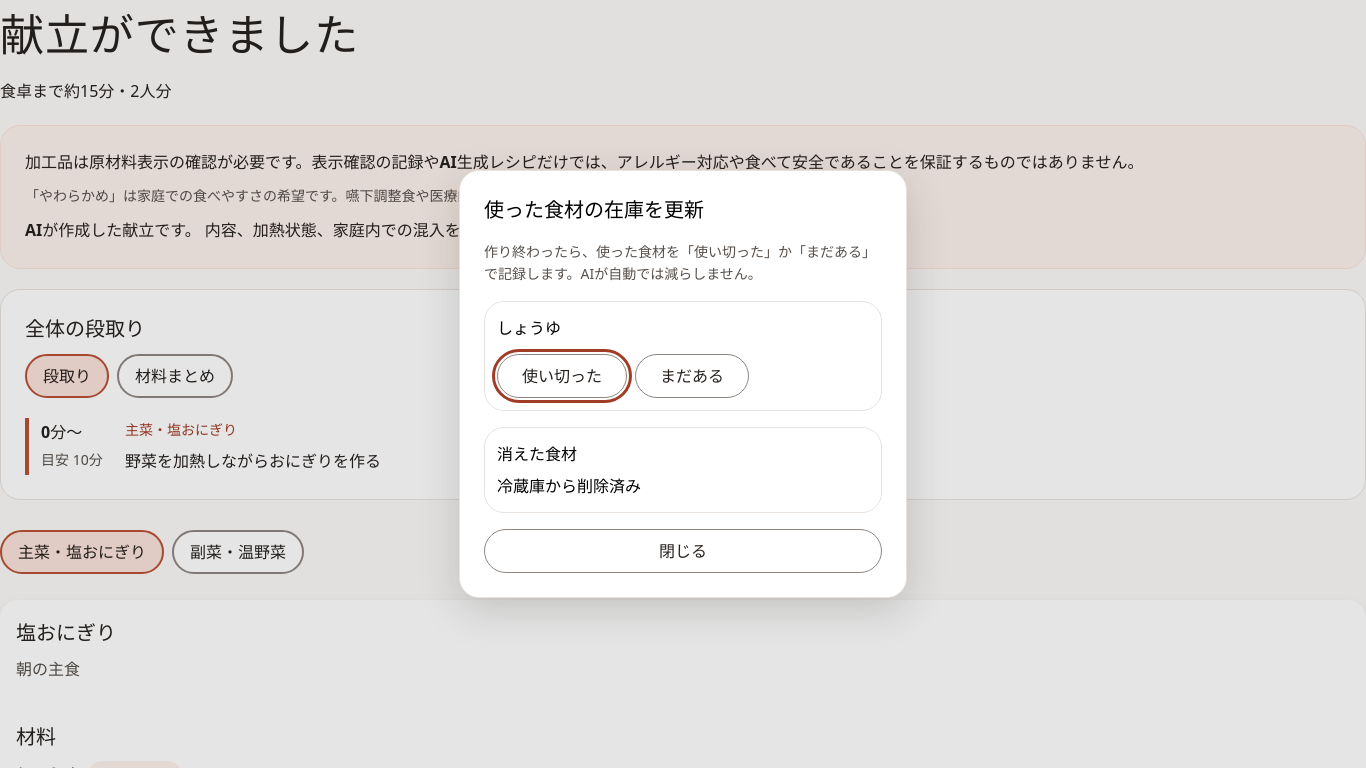
Test case: keeps remainder inputs on version conflict without silent retry
The width and height of the screenshot is (1366, 768).
Click the button "まだある" at (692, 376), box left=635, top=354, right=749, bottom=398
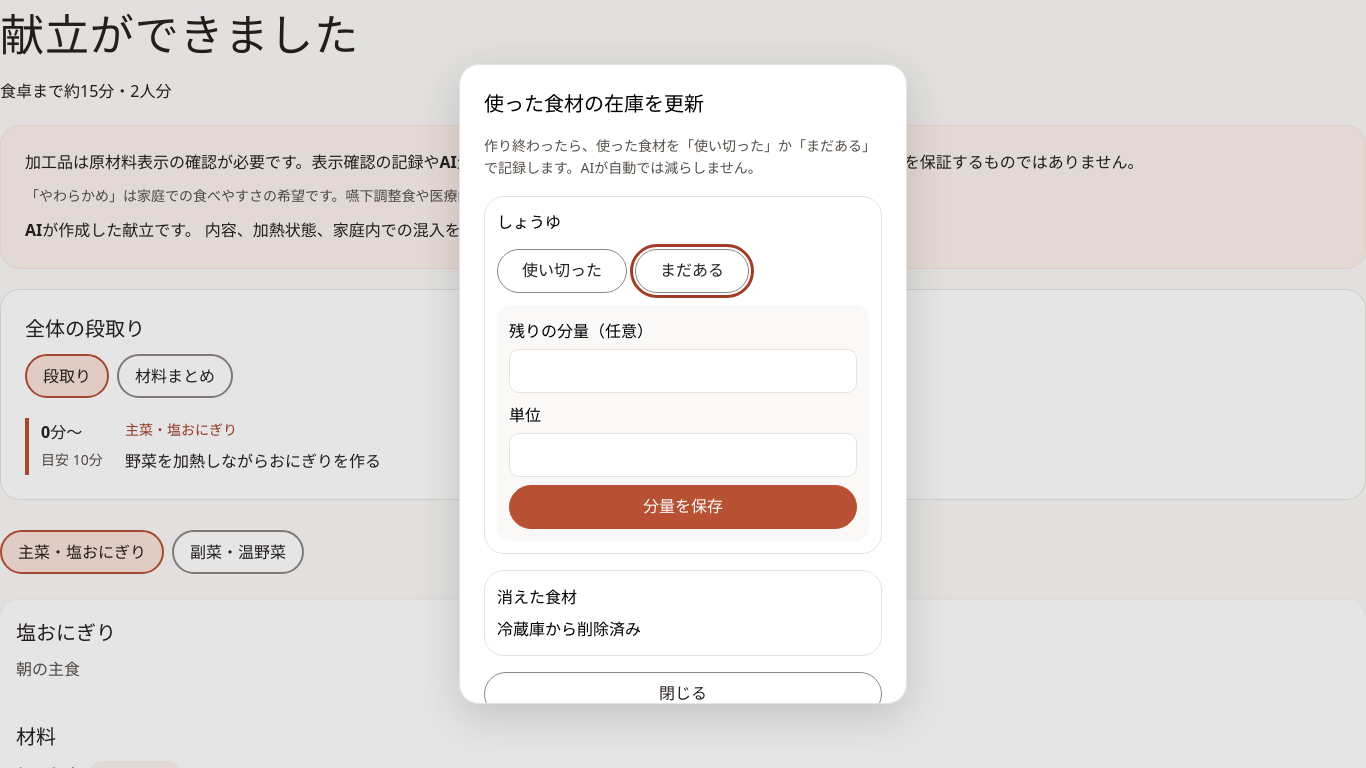
Type "50" into the field labelled "残りの分量（任意）" at (683, 371), box left=509, top=349, right=857, bottom=393
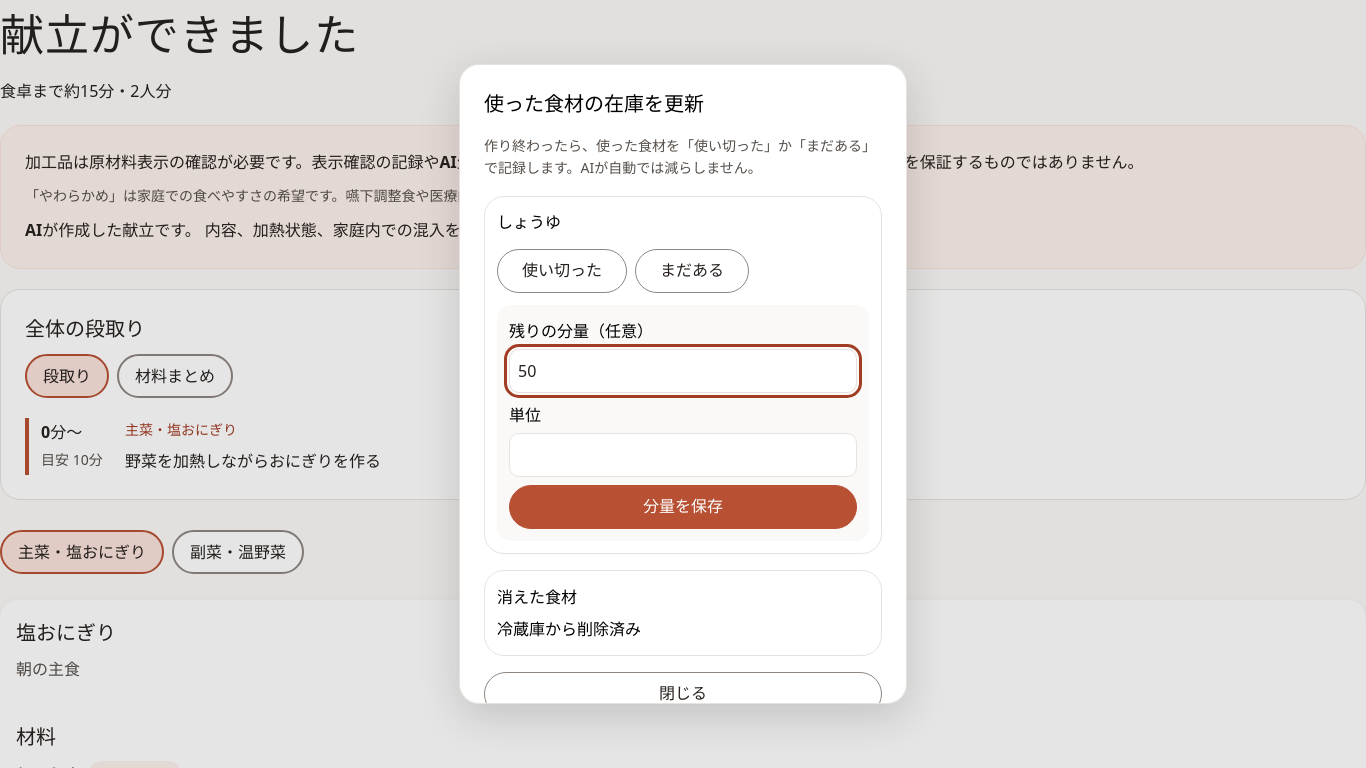
Type "ml" into the field labelled "単位" at (683, 455), box left=509, top=433, right=857, bottom=477
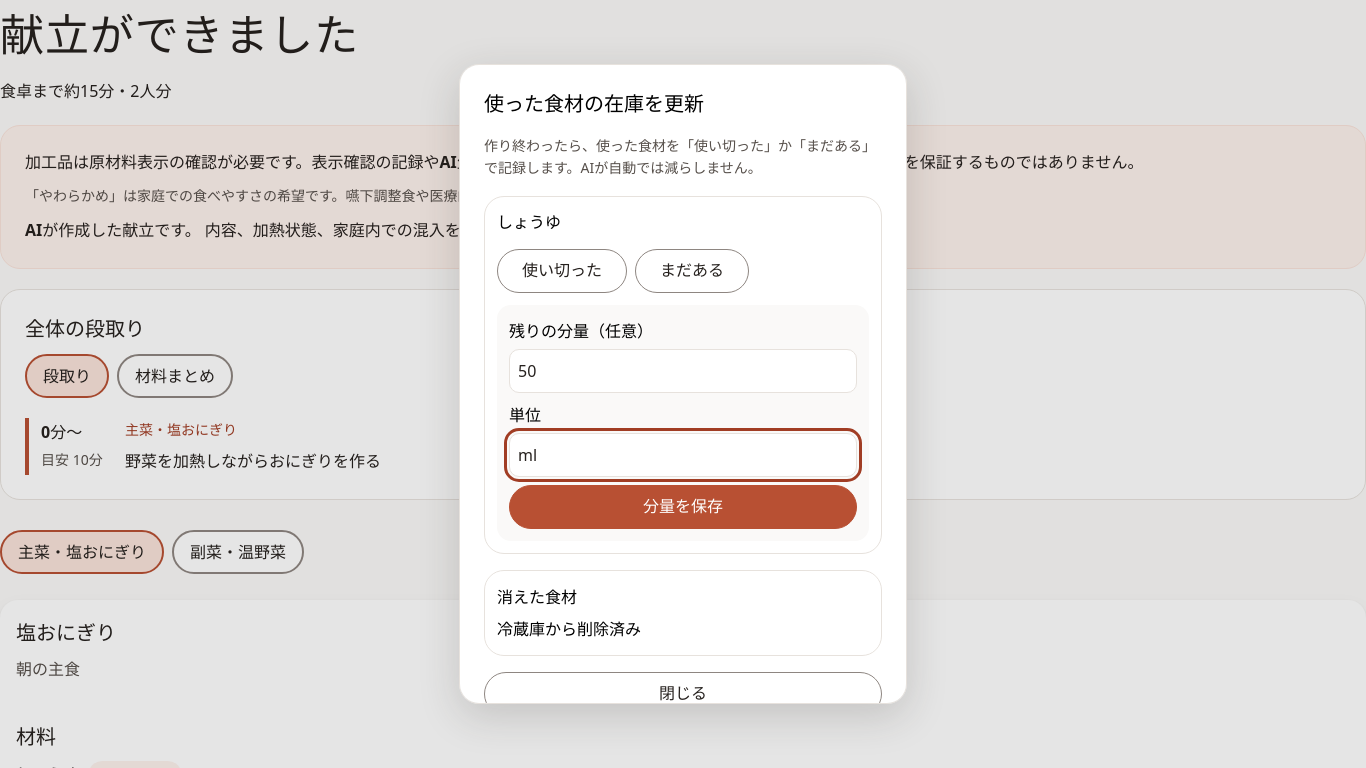
Click the button "分量を保存" at (683, 507), box left=509, top=485, right=857, bottom=529
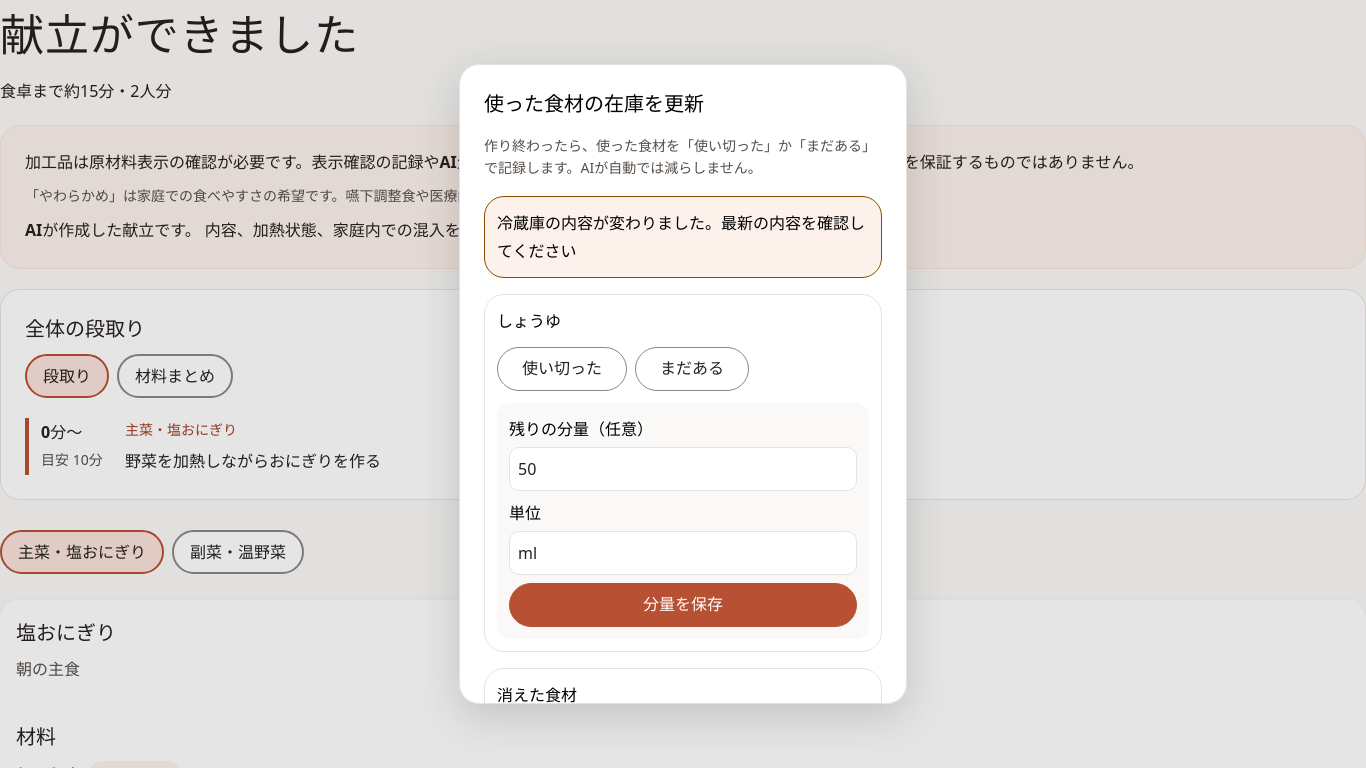
Check: the text "冷蔵庫の内容が変わりました。最新の内容を確認してください" is shown, box left=484, top=196, right=882, bottom=278
